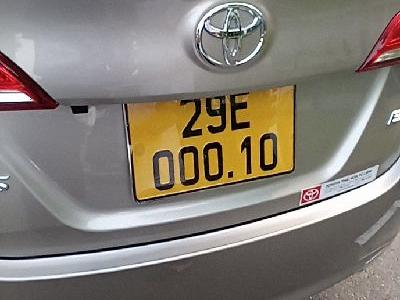car: (122, 83, 297, 204)
